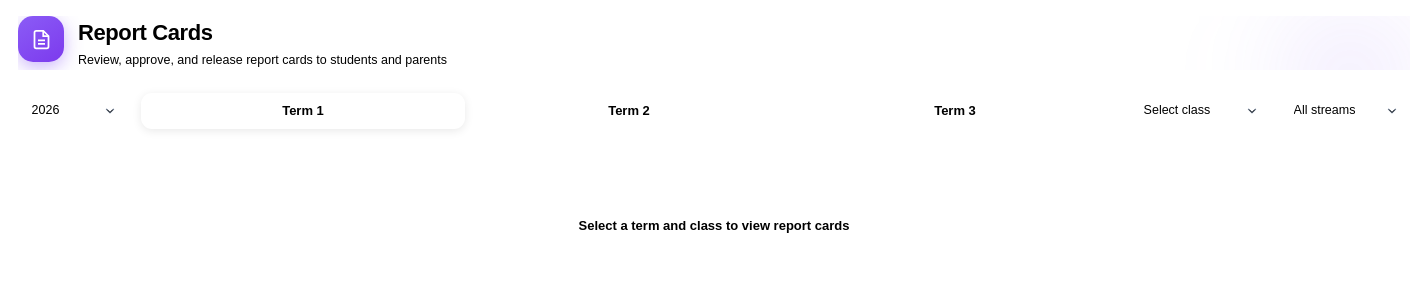
Scenario: PrincipalReportCardsPage › shows Release button for approved cards
Select "S.1" in the 2nd dropdown at (1200, 111), box [1130, 93, 1270, 129]
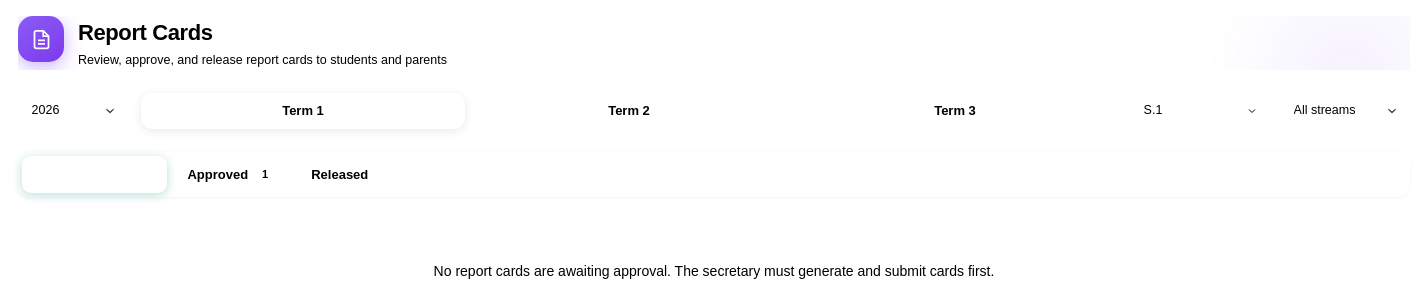
Expected: the button "Approved 1" is shown
Click the button "Approved 1".
click(231, 175)  # box [171, 156, 291, 193]
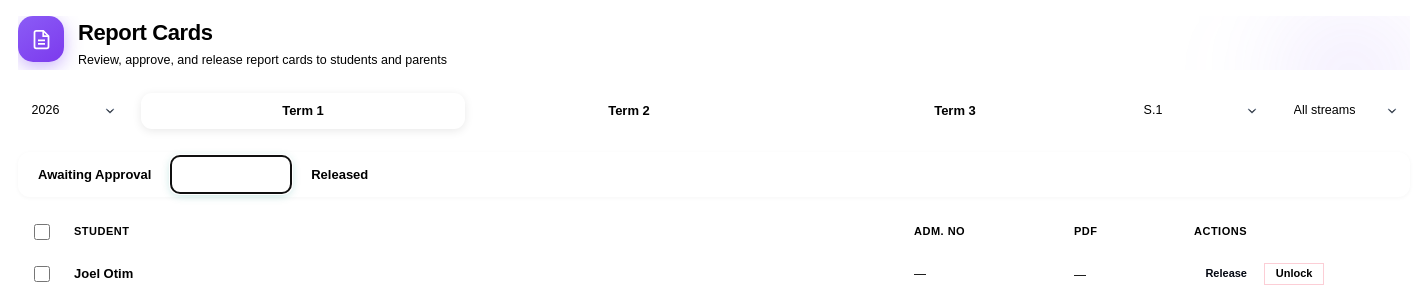
Expected: the text "Joel Otim" is shown, [74, 266, 133, 281]
Expected: the button "Release" is shown, [1194, 263, 1258, 285]
